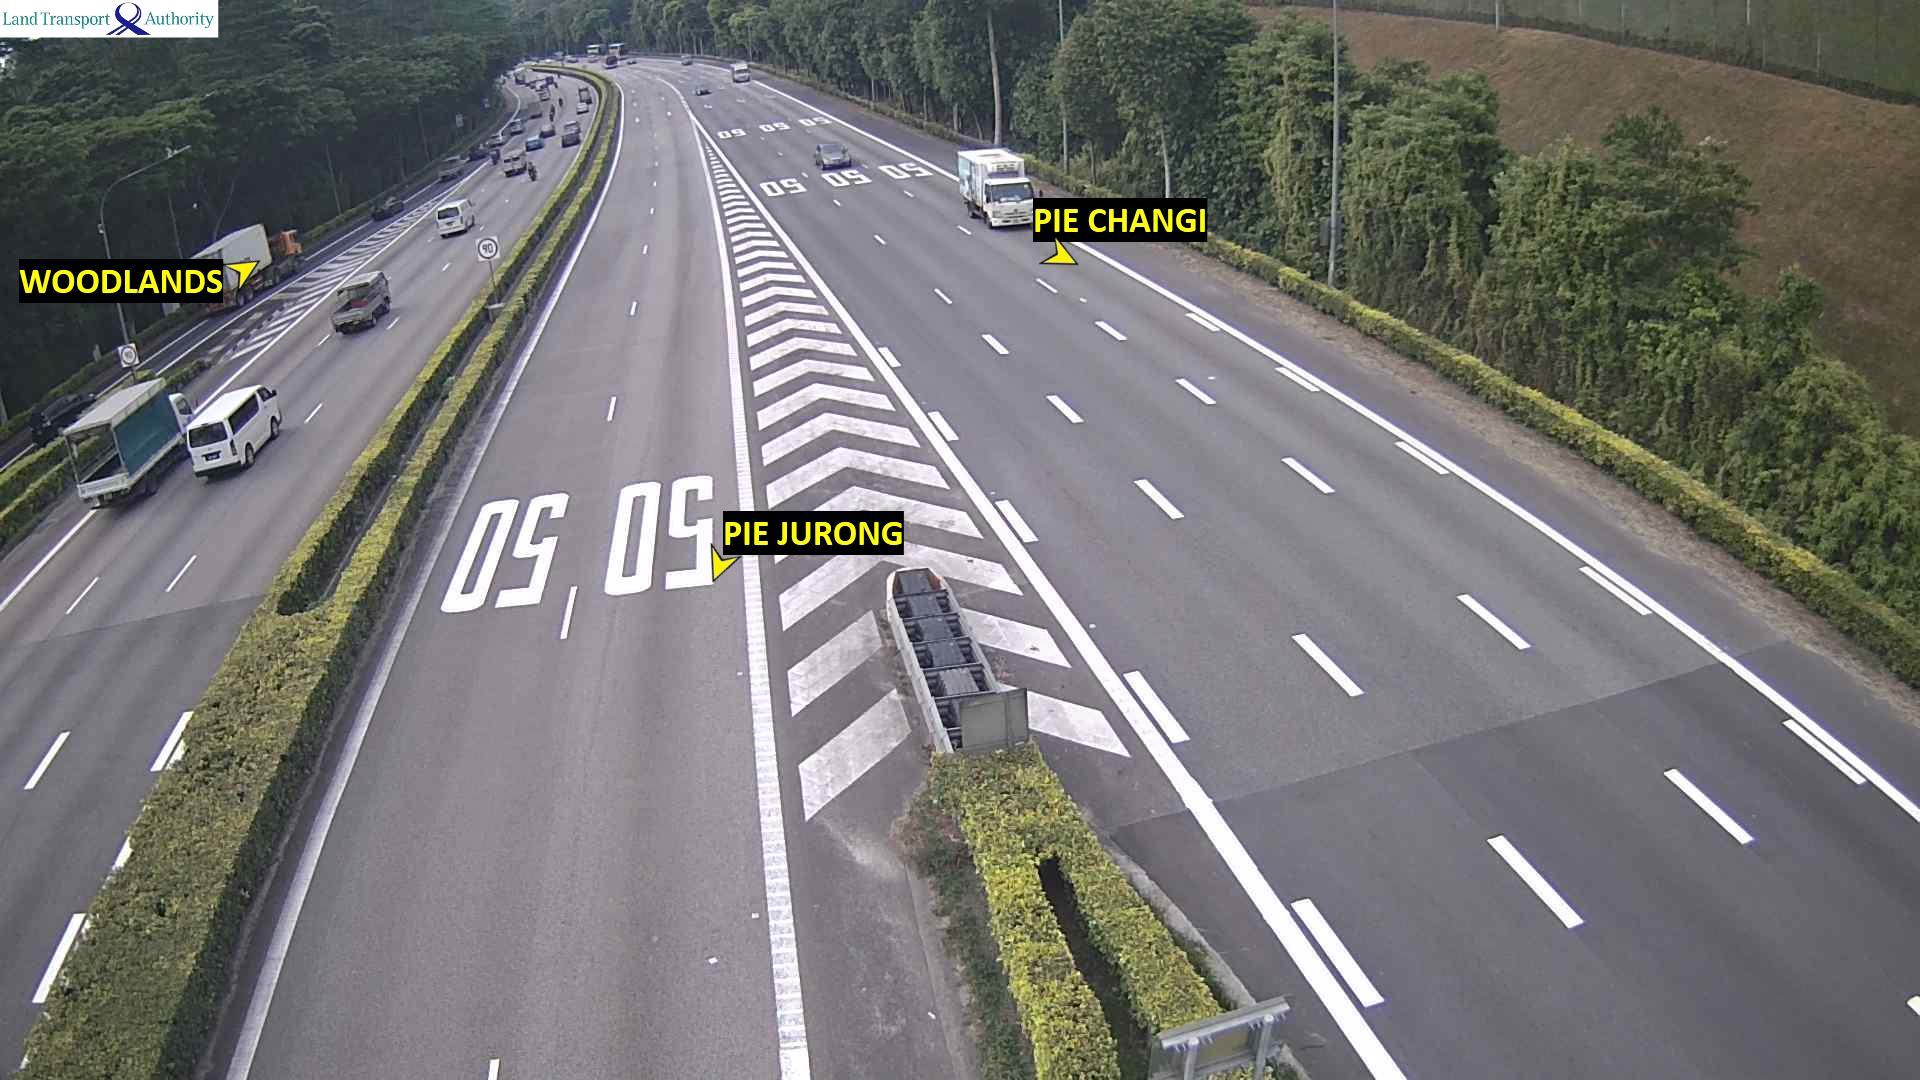incoming: (179, 380, 284, 479), (979, 180, 1035, 235), (816, 145, 857, 176)
